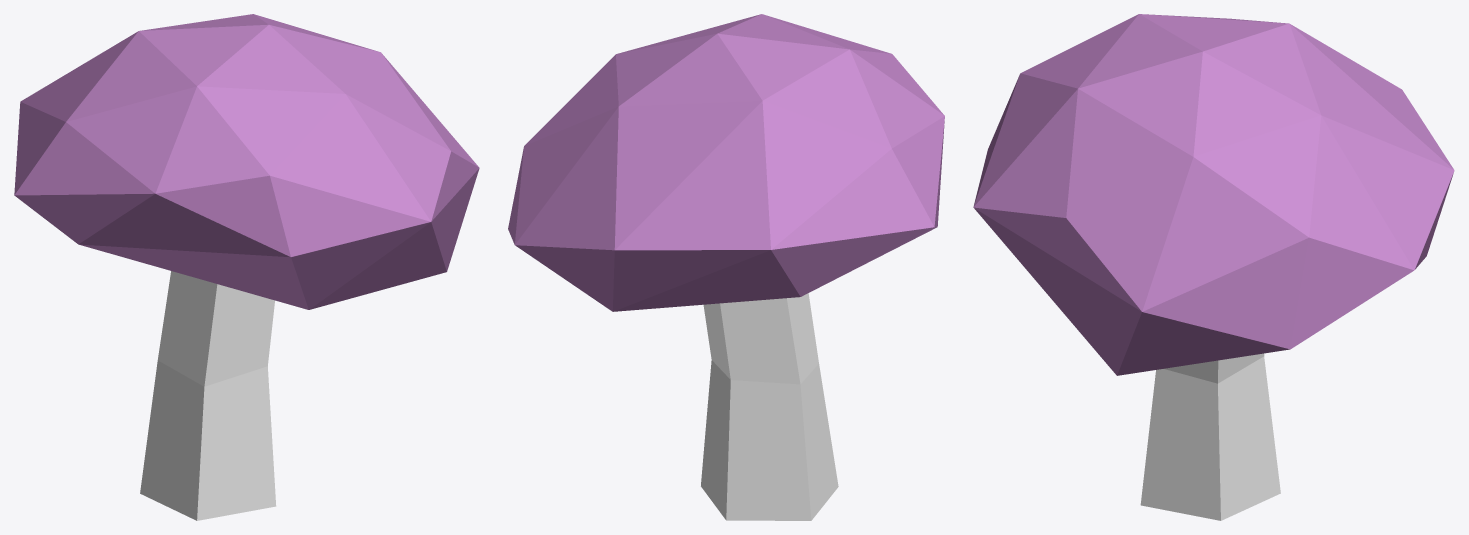
File: Mushroom_k_03.fbx
3 renders of one model, left to right at view 1: azimuth 30°, elevation 25°; view 2: azimuth 150°, elevation 25°; view 3: azimuth 270°, elevation 25°, orthographic. The views are drawn at different scales.
Parts seen in each view (by area): view 1: Mushroom_k_03; view 2: Mushroom_k_03; view 3: Mushroom_k_03.
Boxes of the visible parts, x1,y1,x2,y2 form: Mushroom_k_03: (14, 14, 479, 520); Mushroom_k_03: (508, 14, 944, 520); Mushroom_k_03: (973, 14, 1454, 520).
Size of the model in its own units: 24.32 by 25.21 by 23.62.
